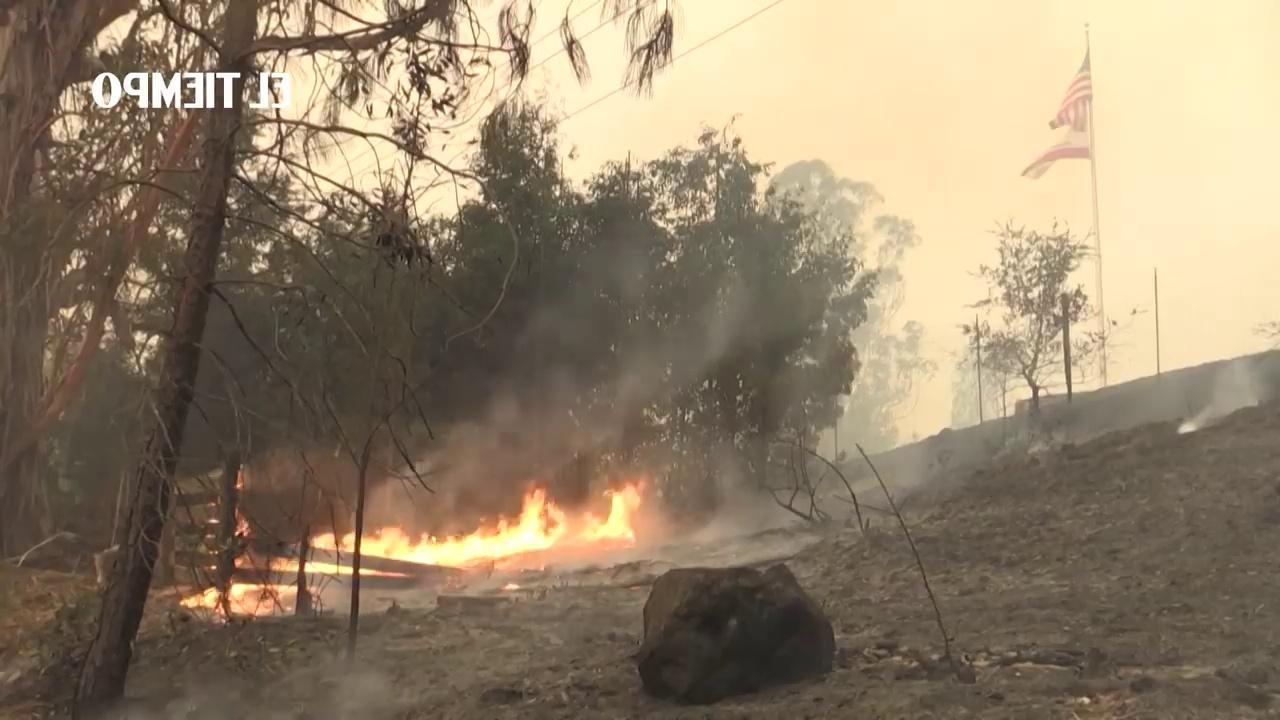Fire: (316, 478, 655, 561), (184, 576, 299, 616)
